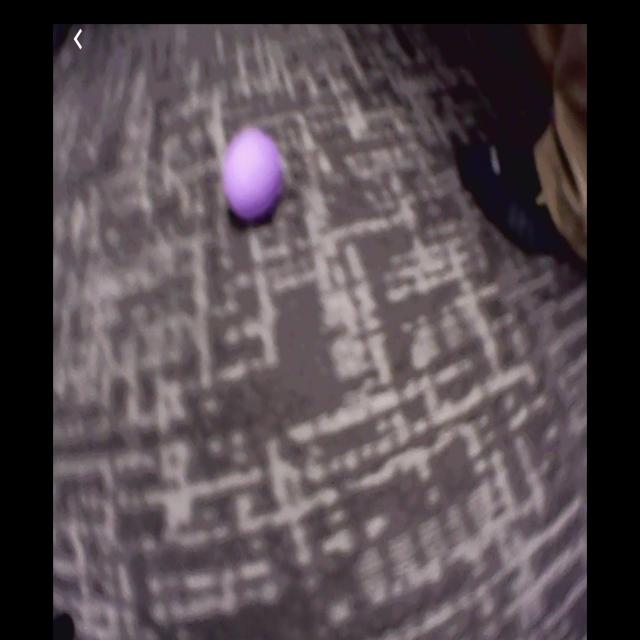ball: (226, 128, 284, 223)
